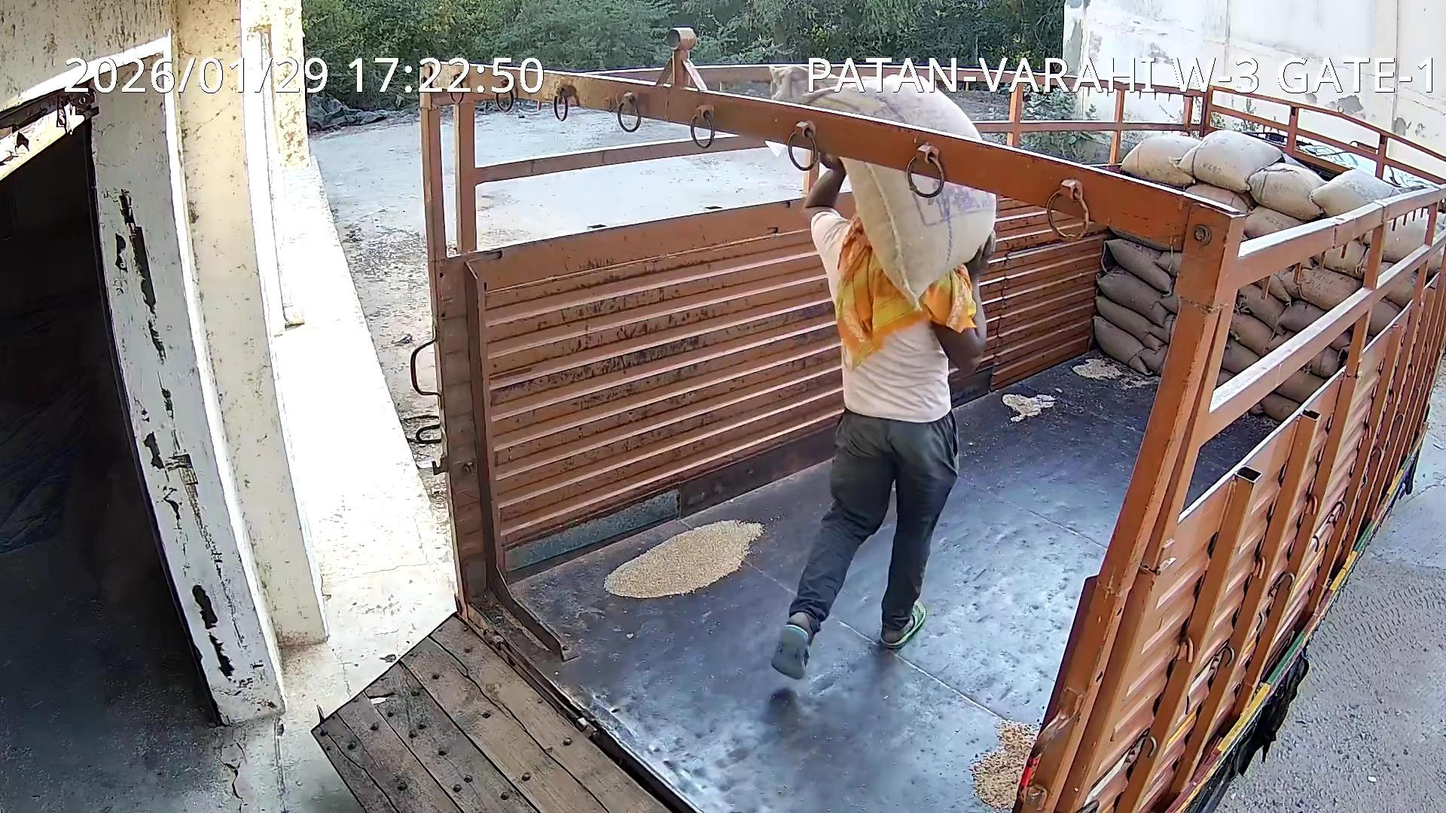Sack: (843, 143, 995, 303), (773, 66, 981, 140)
